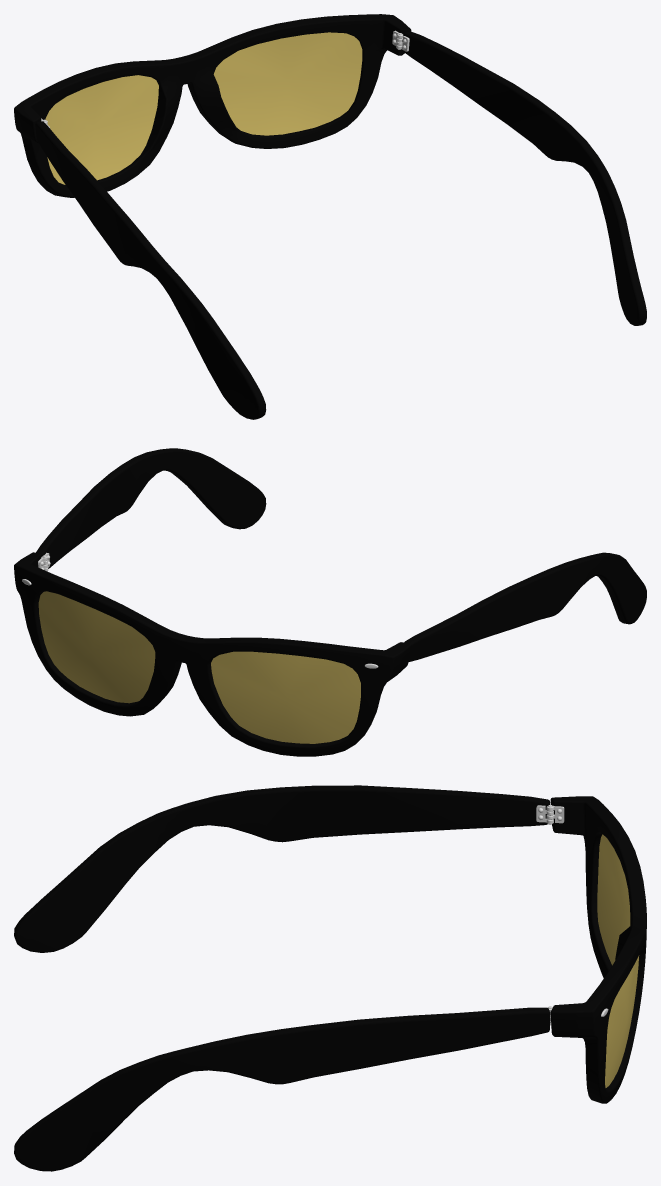
The model's file is glasses_centered.glb.
The picture shows the model from 3 angles, top to bottom: view 1: azimuth 30°, elevation 25°; view 2: azimuth 150°, elevation 25°; view 3: azimuth 270°, elevation 25°; orthographic projection. The views are drawn at different scales.
Parts seen in each view (by area): view 1: glasses_low-poly_model_download.glb; view 2: glasses_low-poly_model_download.glb; view 3: glasses_low-poly_model_download.glb.
Part boxes in pixels (x1,y1,x2,y2): glasses_low-poly_model_download.glb: (14, 14, 646, 419); glasses_low-poly_model_download.glb: (14, 448, 646, 756); glasses_low-poly_model_download.glb: (14, 785, 646, 1171).
Bounding box in the file's own units: 15.43 × 4.66 × 16.51.
1 material, 1 textured.
